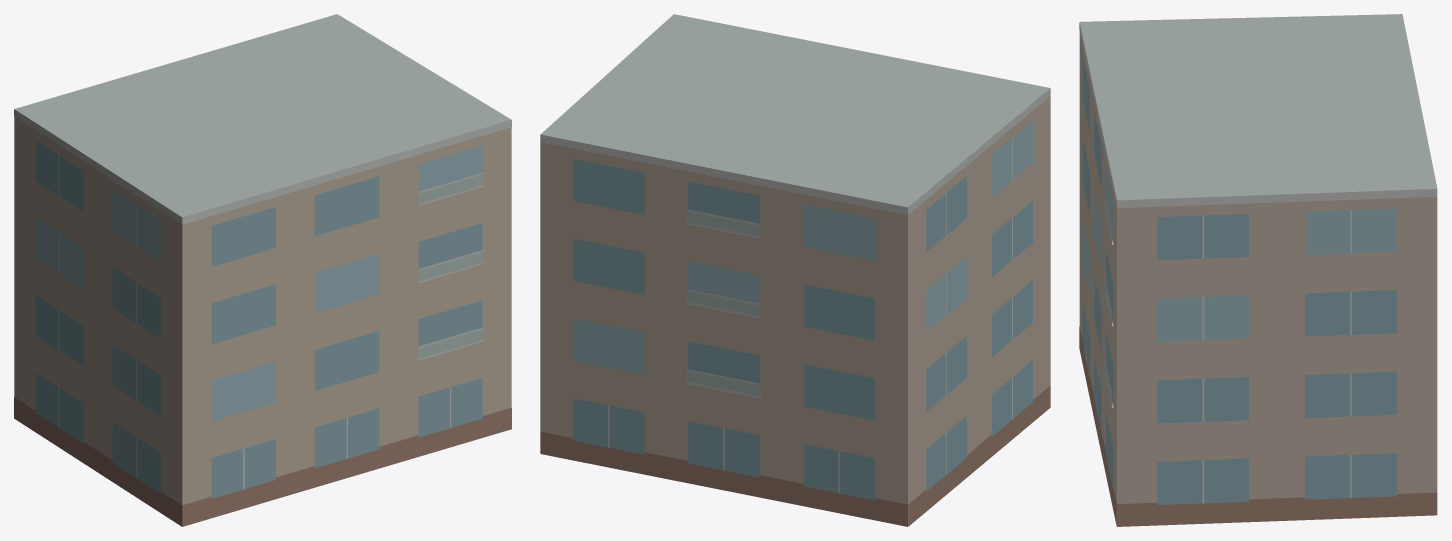
The model's file is survey-upis-32612092.glb.
3 renders of one model, left to right at view 1: azimuth 30°, elevation 25°; view 2: azimuth 150°, elevation 25°; view 3: azimuth 270°, elevation 25°, orthographic. The views are drawn at different scales.
Visible parts, largest first — view 1: survey-upis-32612092.tmp; view 2: survey-upis-32612092.tmp; view 3: survey-upis-32612092.tmp.
Part boxes in pixels (<box>): survey-upis-32612092.tmp: <box>14,14,511,526</box>; survey-upis-32612092.tmp: <box>540,14,1050,526</box>; survey-upis-32612092.tmp: <box>1079,14,1437,526</box>.
Size of the model in its own units: 12.5 by 10.2 by 10.15.
